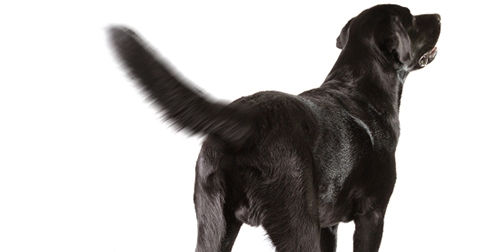tail: (101, 18, 256, 151)
